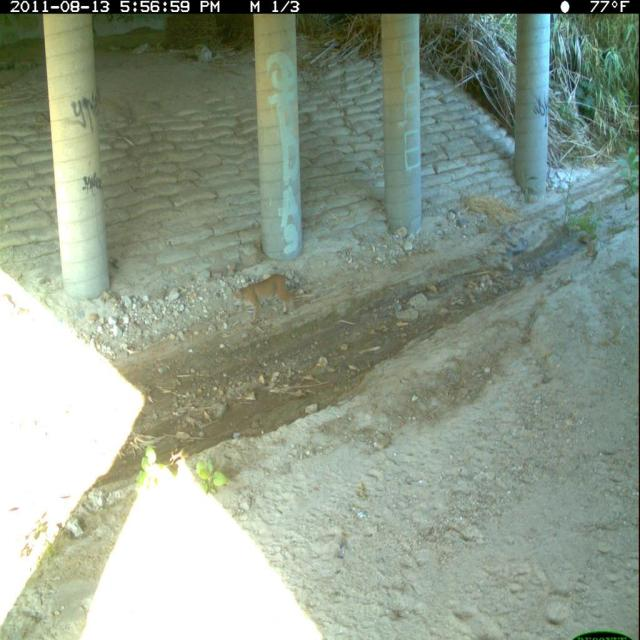bobcat: (230, 267, 301, 332)
